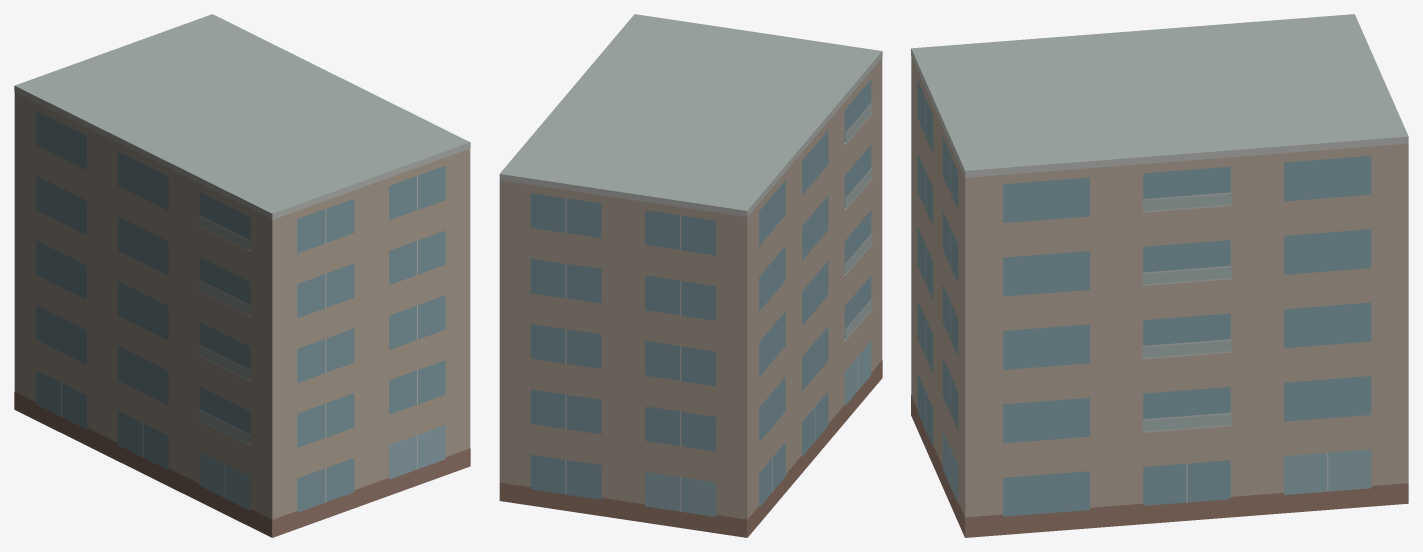
Rendered from survey-upis-32869207.glb.
3 views of the same model, side by side, from view 1: azimuth 30°, elevation 25°; view 2: azimuth 150°, elevation 25°; view 3: azimuth 270°, elevation 25° (orthographic). The views are drawn at different scales.
Parts seen in each view (by area): view 1: survey-upis-32869207.tmp; view 2: survey-upis-32869207.tmp; view 3: survey-upis-32869207.tmp.
Boxes of the visible parts, bbox=[...] form: survey-upis-32869207.tmp: bbox=[14, 14, 470, 537]; survey-upis-32869207.tmp: bbox=[499, 14, 882, 537]; survey-upis-32869207.tmp: bbox=[911, 14, 1408, 537].
Bounding box in the file's own units: 11.74 × 12.8 × 15.74.
